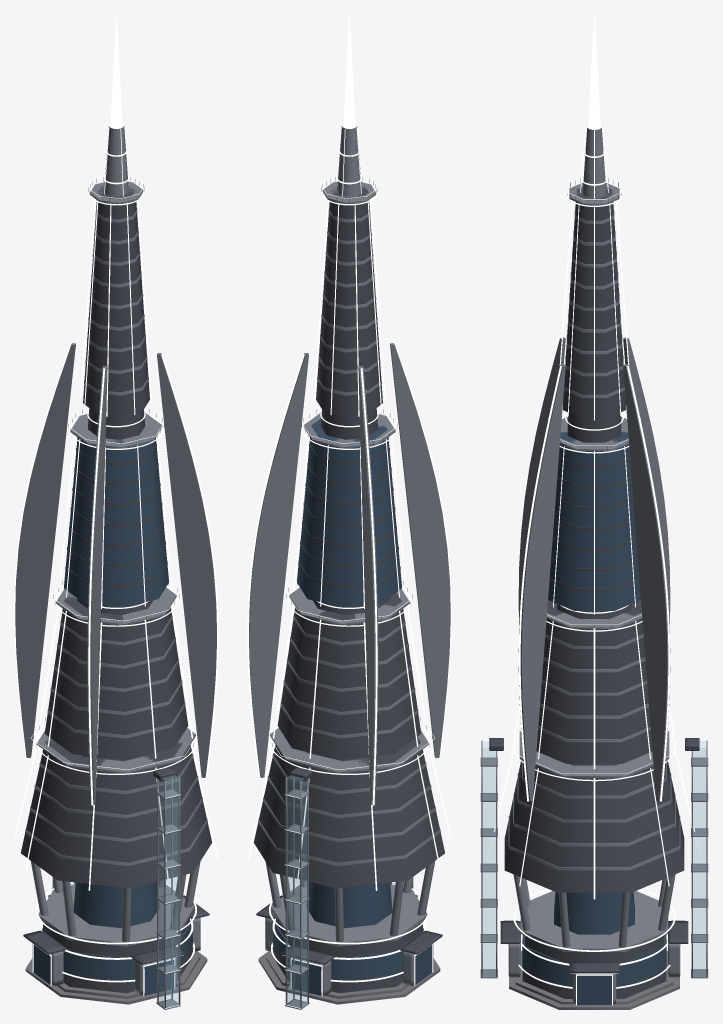
Rendered from spire.glb.
3 views of the same model, side by side, from view 1: azimuth 30°, elevation 25°; view 2: azimuth 150°, elevation 25°; view 3: azimuth 270°, elevation 25° (orthographic).
Visible parts, largest first — view 1: spire; view 2: spire; view 3: spire.
Boxes of the visible parts, x1,y1,x2,y2 form: spire: [14, 14, 218, 1009]; spire: [247, 14, 451, 1009]; spire: [480, 14, 708, 1009].
Size of the model in its own units: 43.71 by 218 by 46.92.
